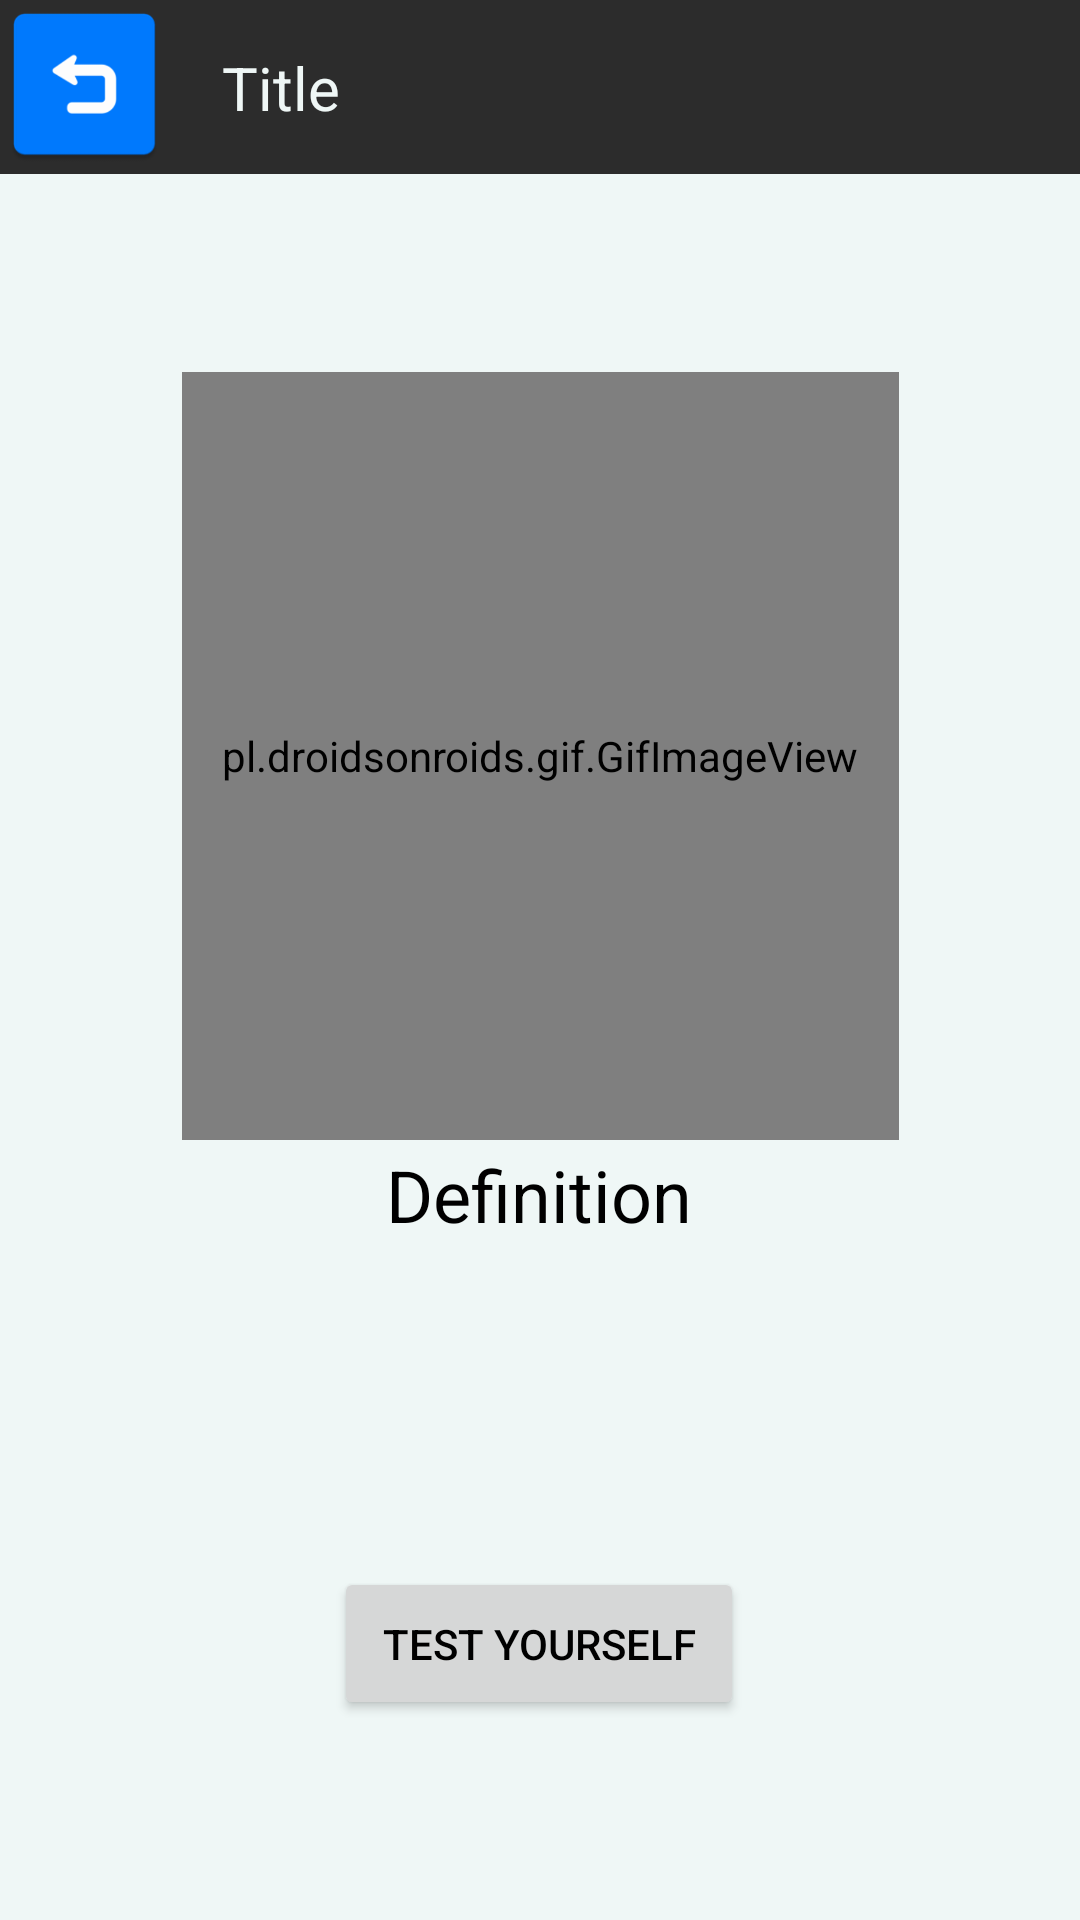

Named icons in this screenshot (1080w x 1920h) and their bounding boxes, (x1, y1, x2, y2):
back: (13, 13, 155, 155)
